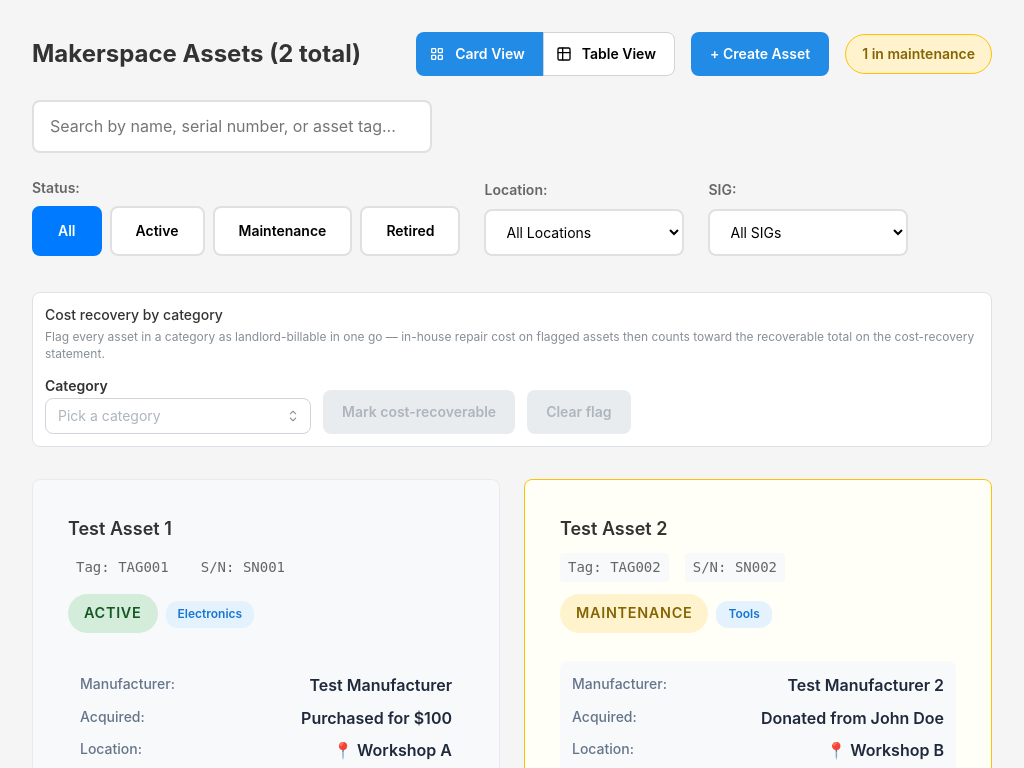
AssetList › bulk cost-recovery by category › keeps the buttons disabled until a category is picked
Expected: the button with test id "bulk-cost-recoverable-set" is disabled, [323,390,515,434]
Expected: the button with test id "bulk-cost-recoverable-clear" is disabled, [527,390,630,434]
Click the dropdown with test id "bulk-cost-recoverable-category". click: [178, 416]
box: [45,398,311,434]
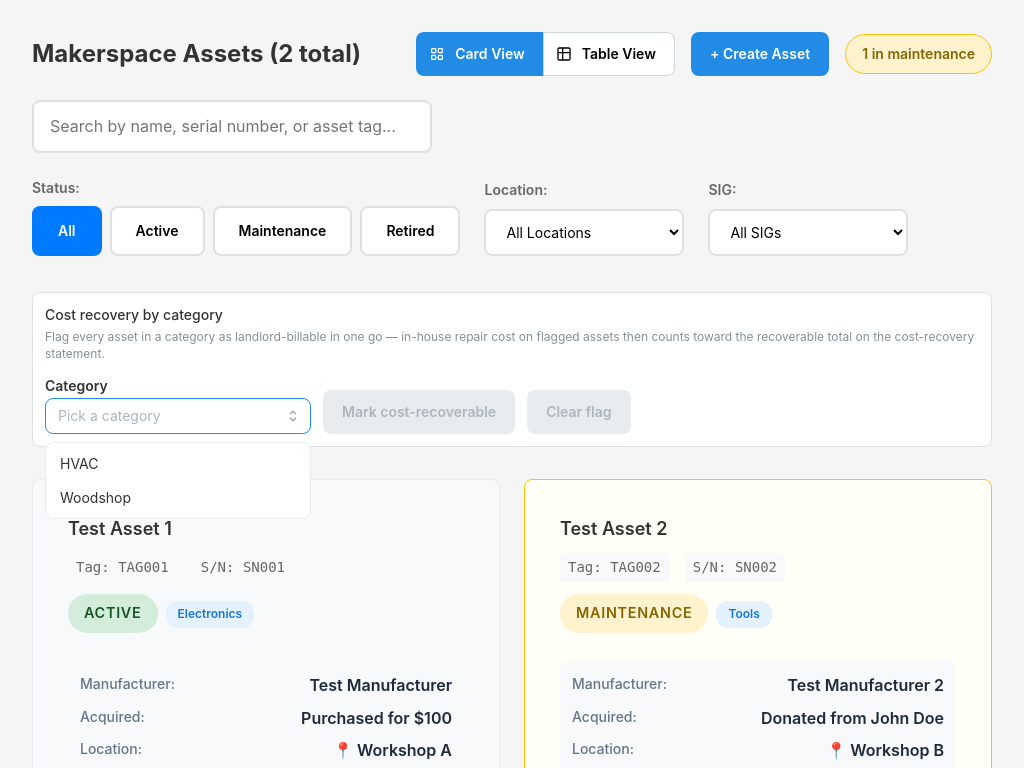
Click the option "HVAC". click: [79, 463]
box: [60,455,98,472]
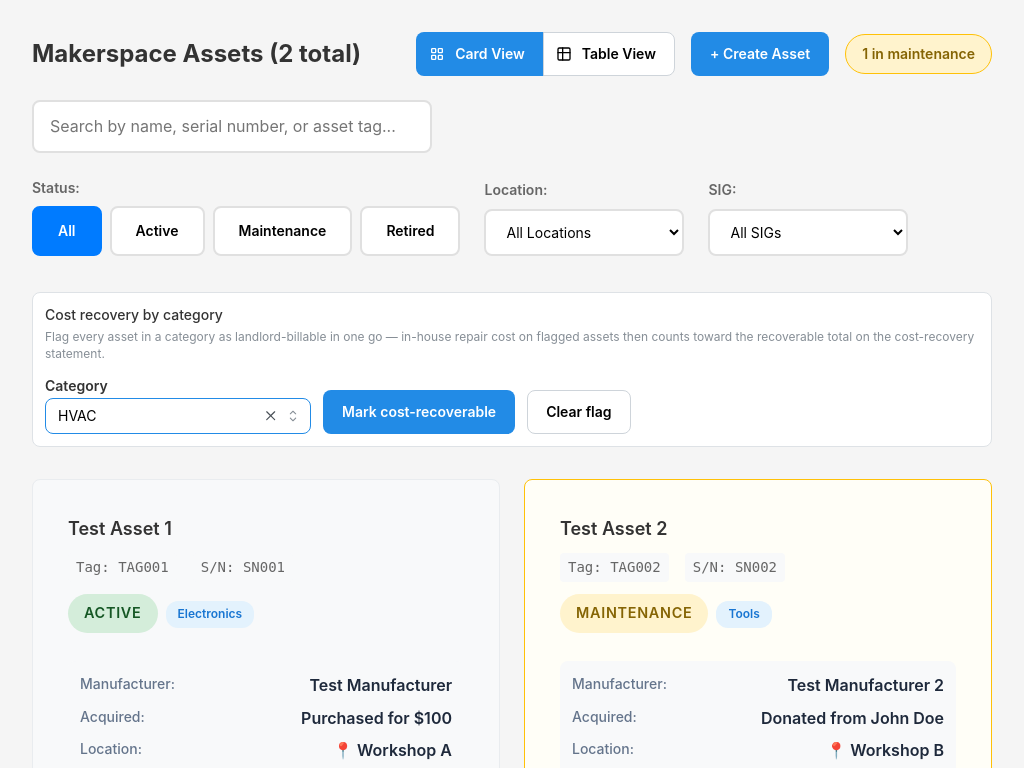
Result: the button with test id "bulk-cost-recoverable-set" is enabled at [323,390,515,434]
